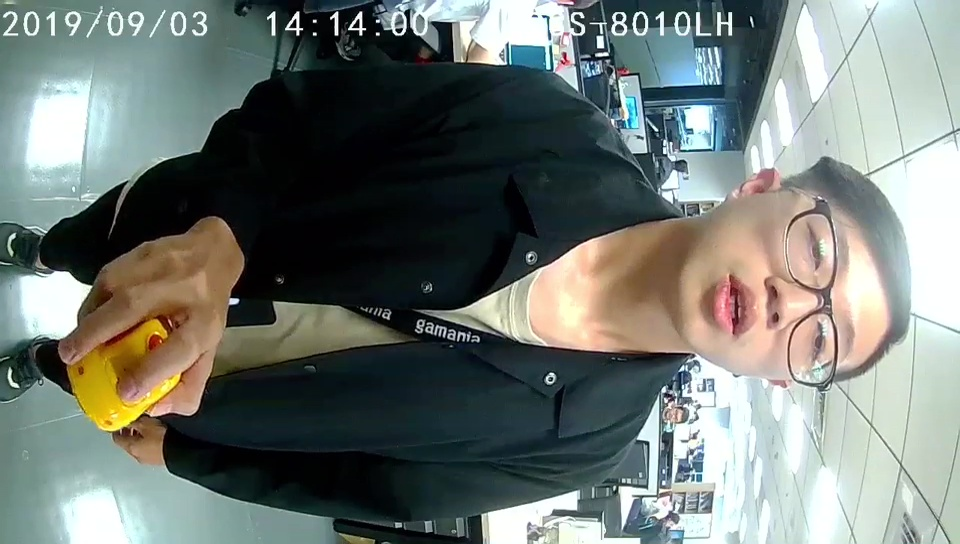car: (67, 315, 182, 431)
